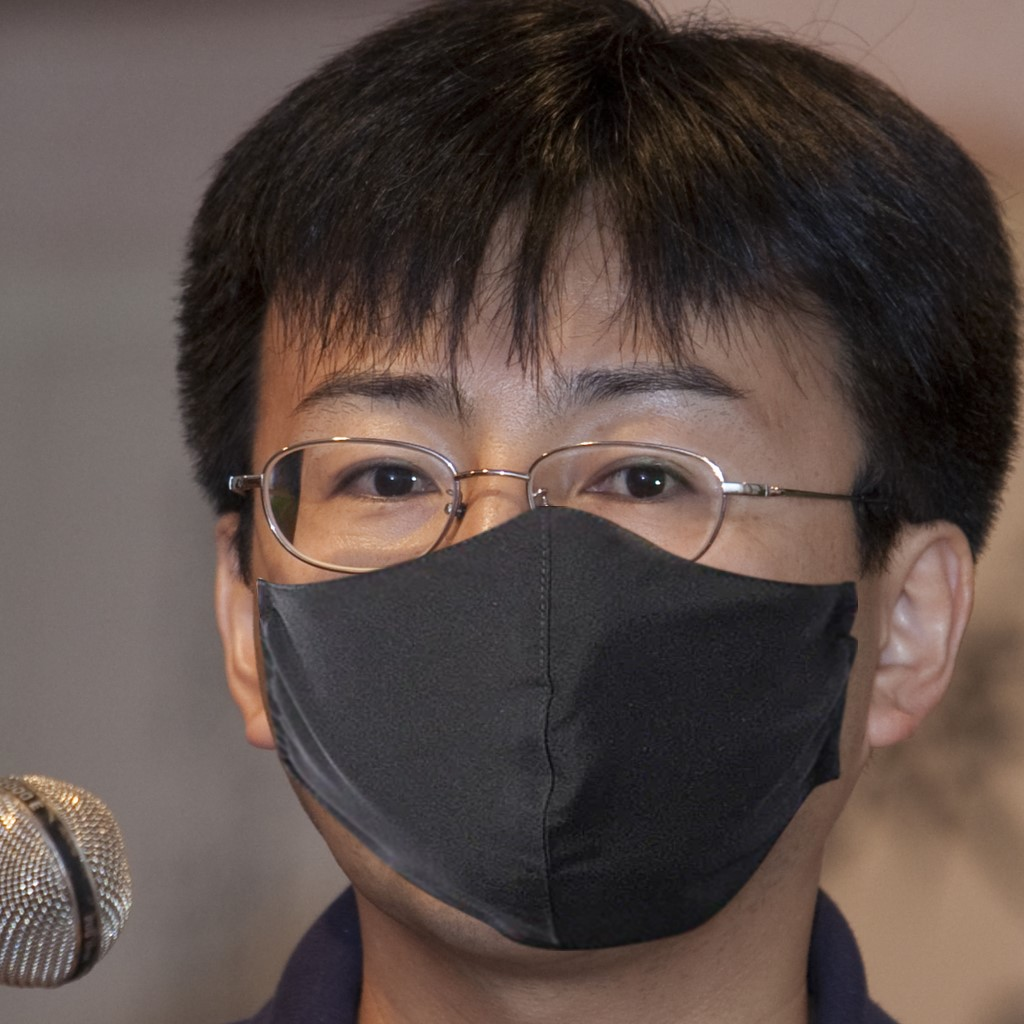con_mascara: (203, 141, 932, 943)
